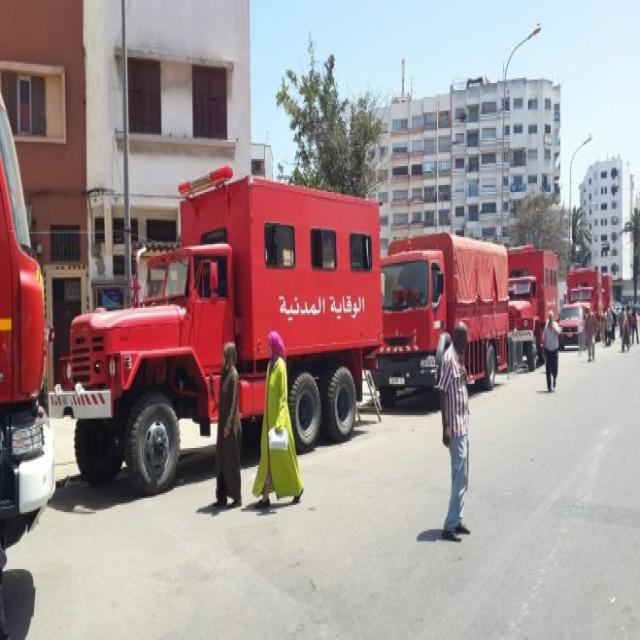pompier: (59, 170, 380, 484), (388, 229, 512, 396), (511, 240, 564, 382)
